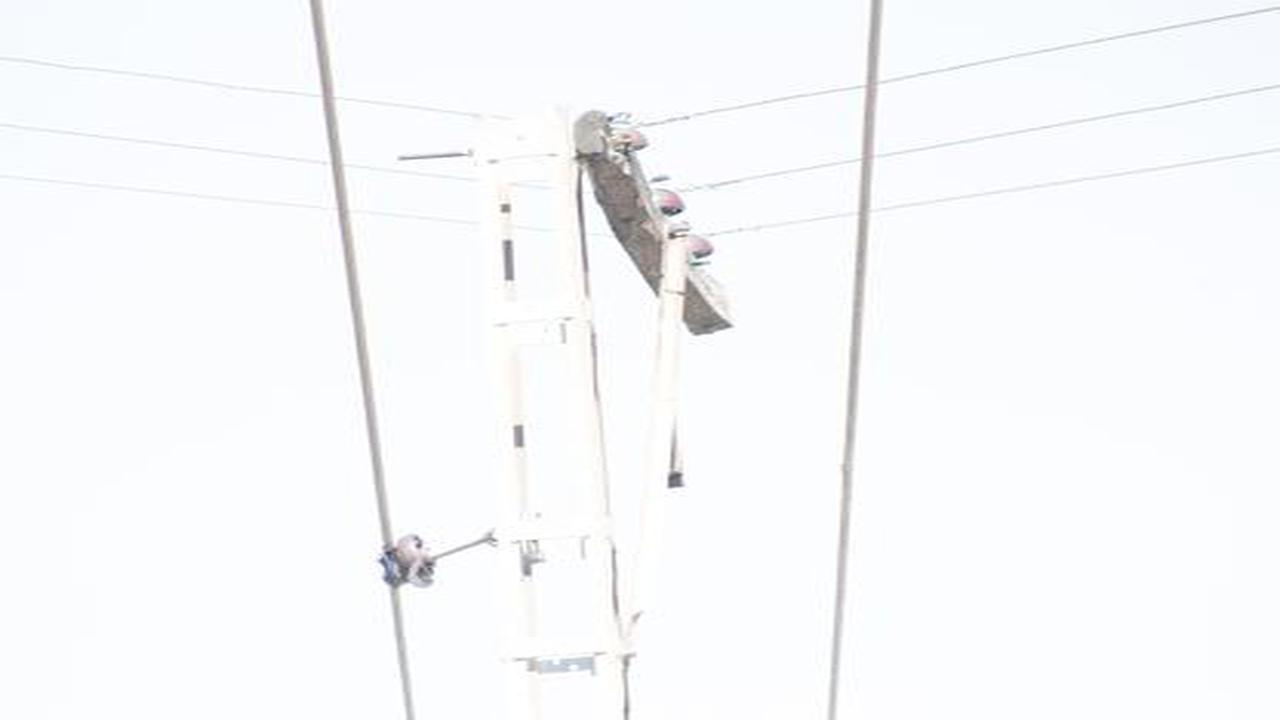insulator_pin: (375, 531, 440, 597), (602, 103, 651, 153), (650, 174, 685, 221), (690, 232, 718, 260)
